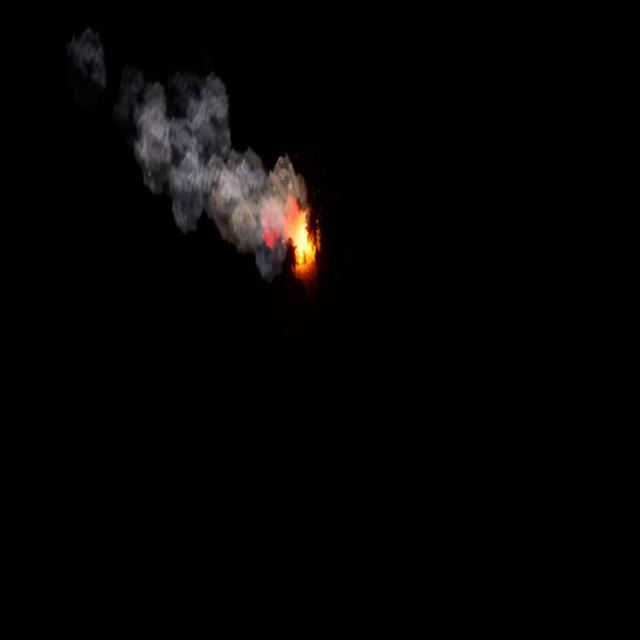fire: (284, 215, 321, 272)
smoke: (133, 73, 312, 248)
